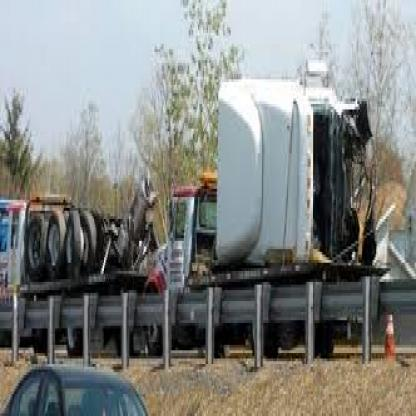accident: (29, 75, 416, 360)
